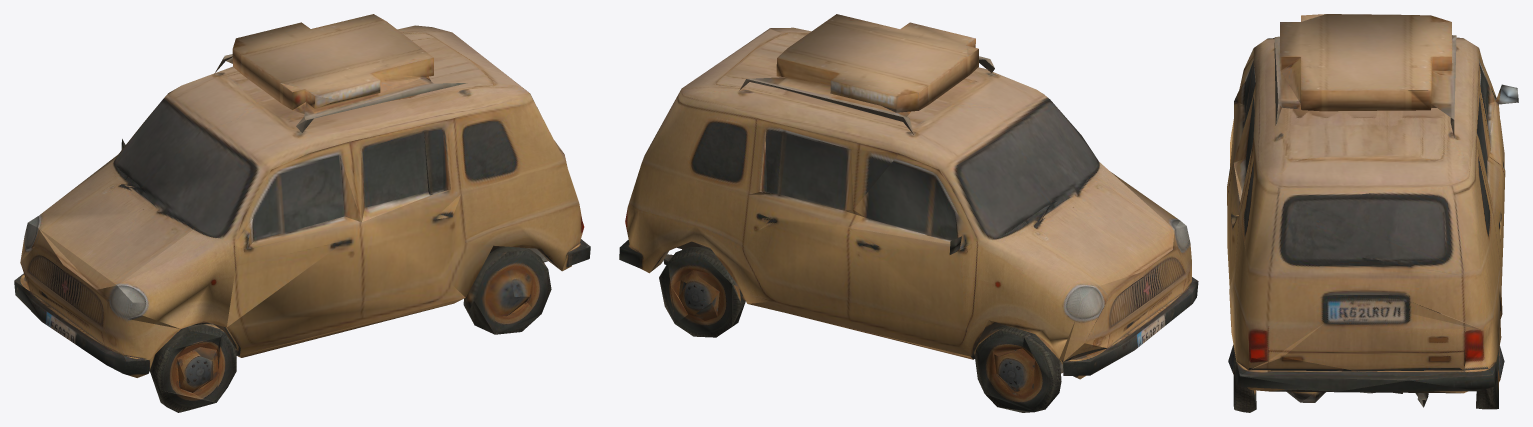
Rendered from car_hatchback_light.glb.
3 renders of one model, left to right at view 1: azimuth 30°, elevation 25°; view 2: azimuth 150°, elevation 25°; view 3: azimuth 270°, elevation 25°, orthographic. The views are drawn at different scales.
Parts seen in each view (by area): view 1: output_unwrapped; view 2: output_unwrapped; view 3: output_unwrapped.
Boxes of the visible parts, x1,y1,x2,y2 form: output_unwrapped: (14,14,590,412); output_unwrapped: (619,14,1198,412); output_unwrapped: (1227,14,1518,412).
Bounding box in the file's own units: 2.69 × 1.45 × 1.3.
1 material, 1 textured.
